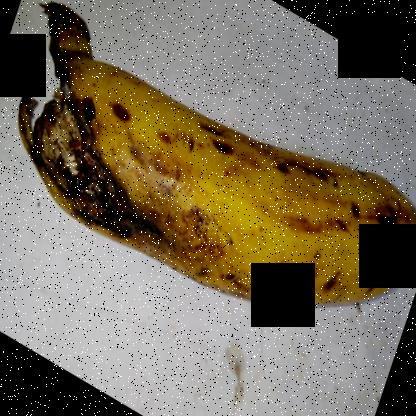rotten: (2, 1, 188, 293)
